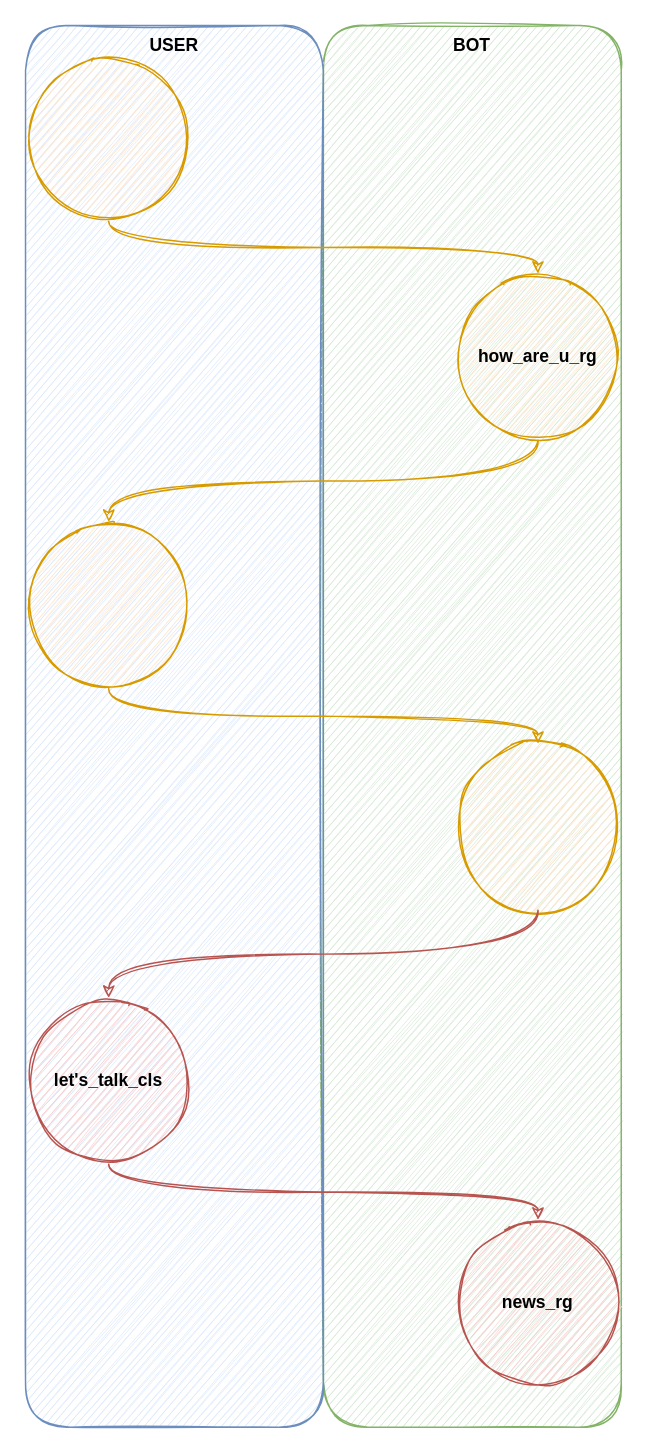
This 647x1453 diagram has some shape labels left out. The shapes that lost their labels are listed below. From the top down, each one's centre as x and y in pixels, then its label:
At (x=108, y=137): "hello_cls".
At (x=108, y=604): "ok_cls".
At (x=537, y=826): "ok_rg".
